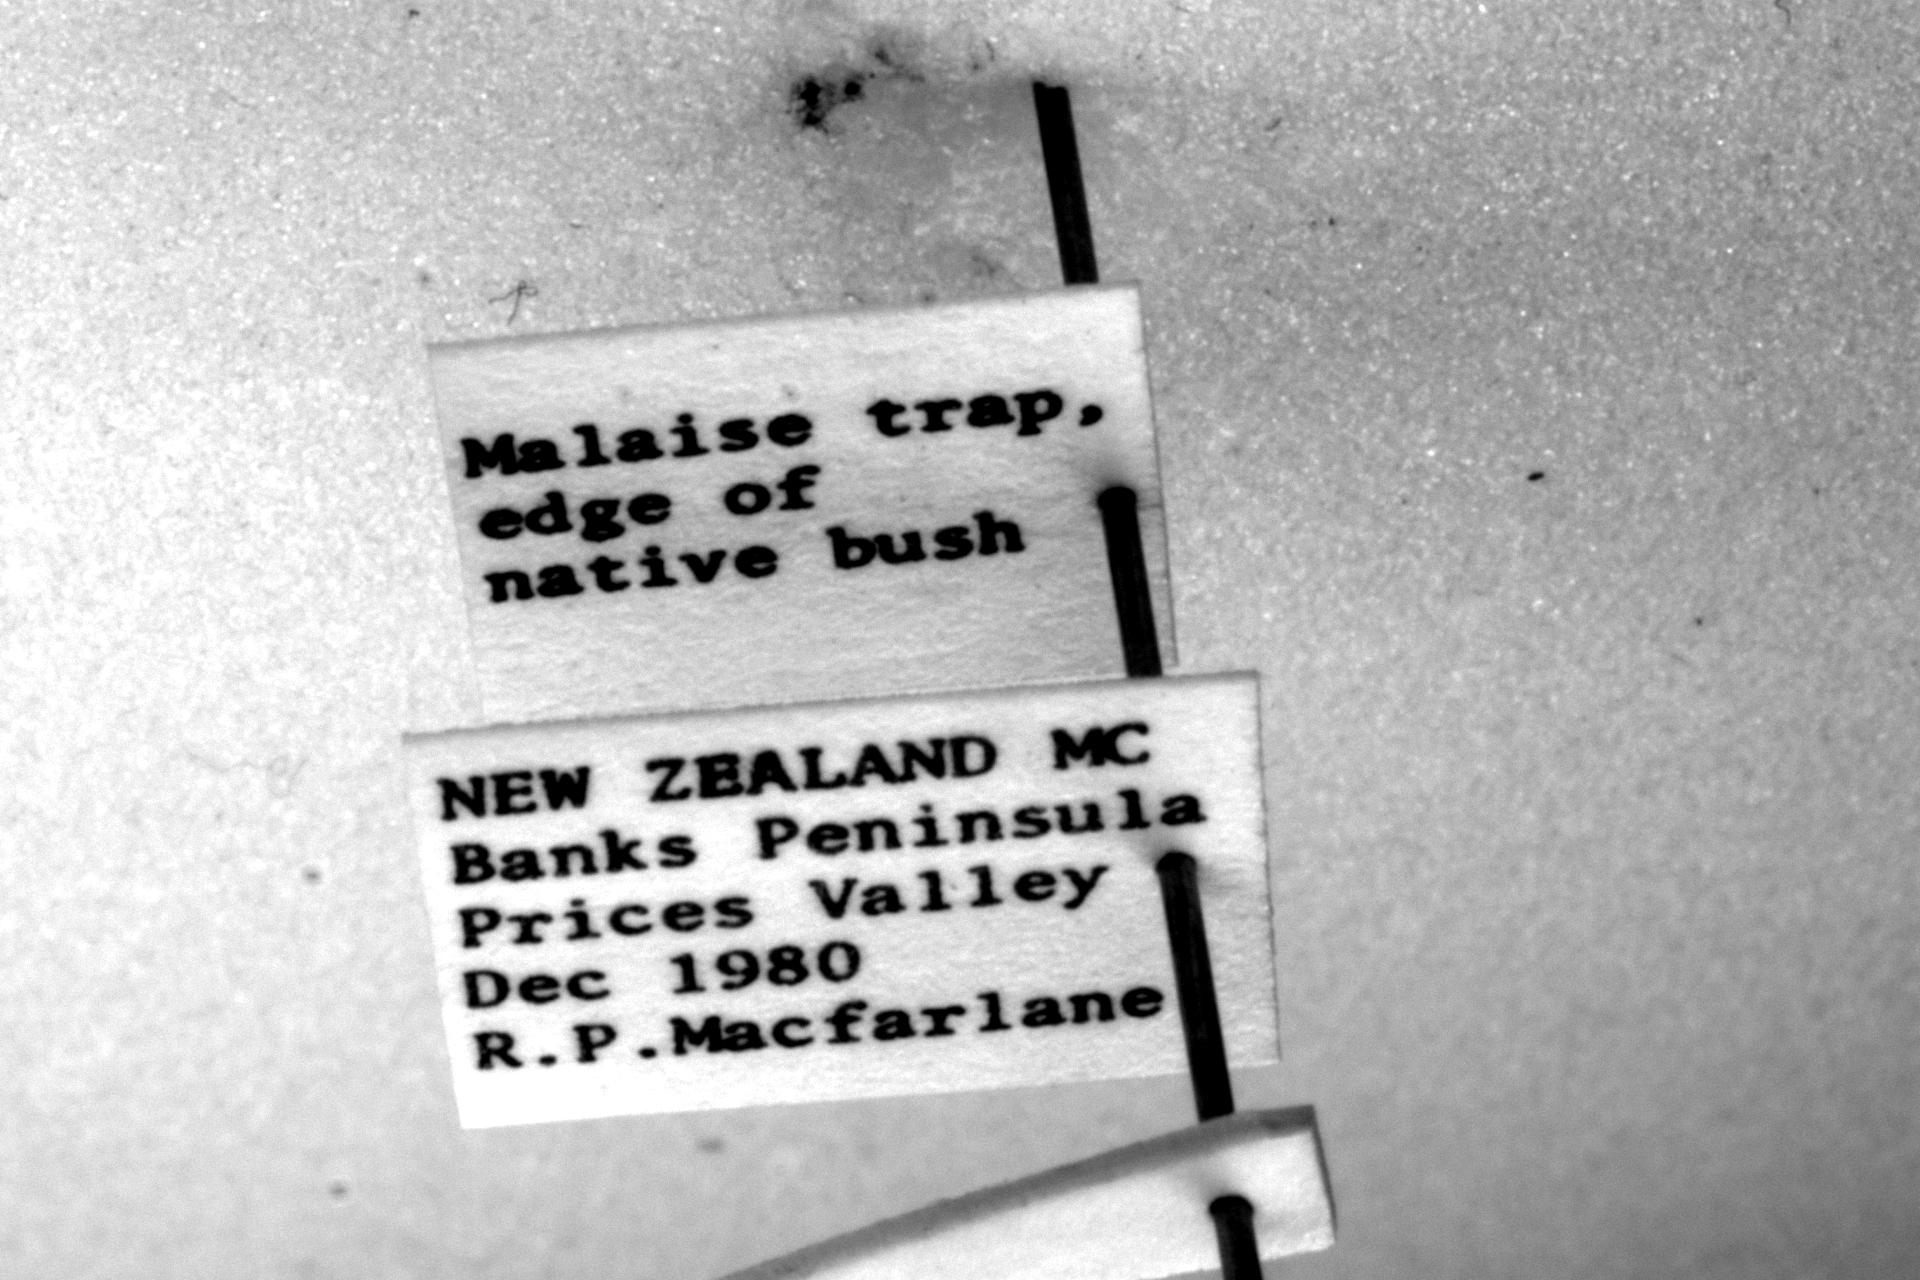typed_label: (406, 674, 1279, 1129), (431, 286, 1174, 724)
